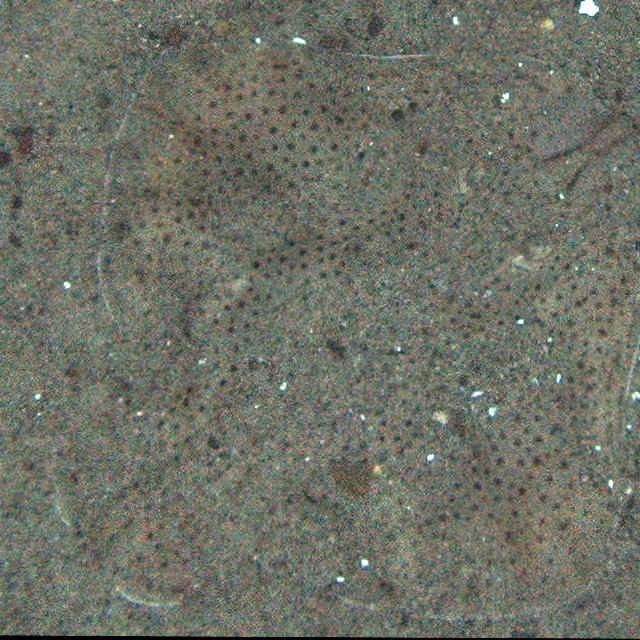skate: (105, 43, 622, 604)
